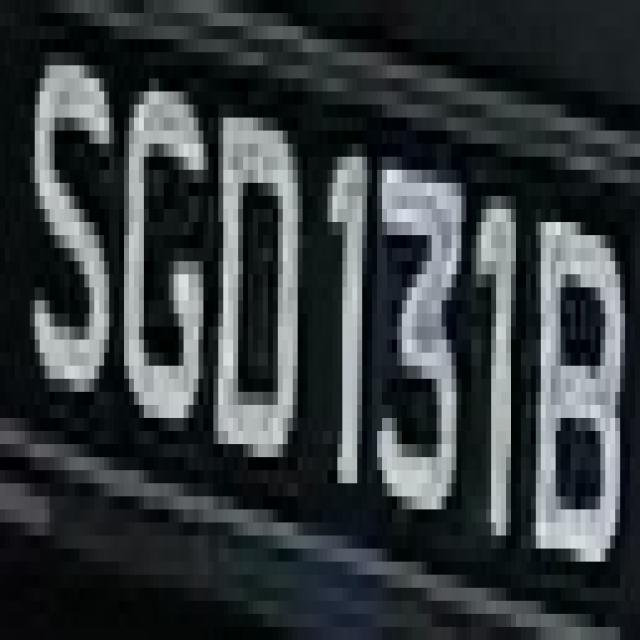1: (476, 170, 526, 588), (332, 157, 377, 509)
3: (362, 130, 471, 562)
B: (516, 183, 630, 627)
D: (204, 91, 308, 484)
G: (114, 52, 213, 431)
S: (35, 39, 119, 418)
